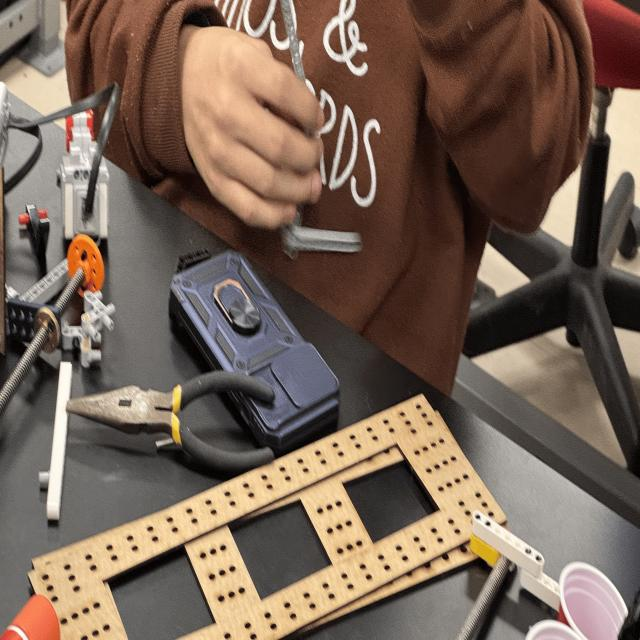pen: (169, 243, 344, 461)
